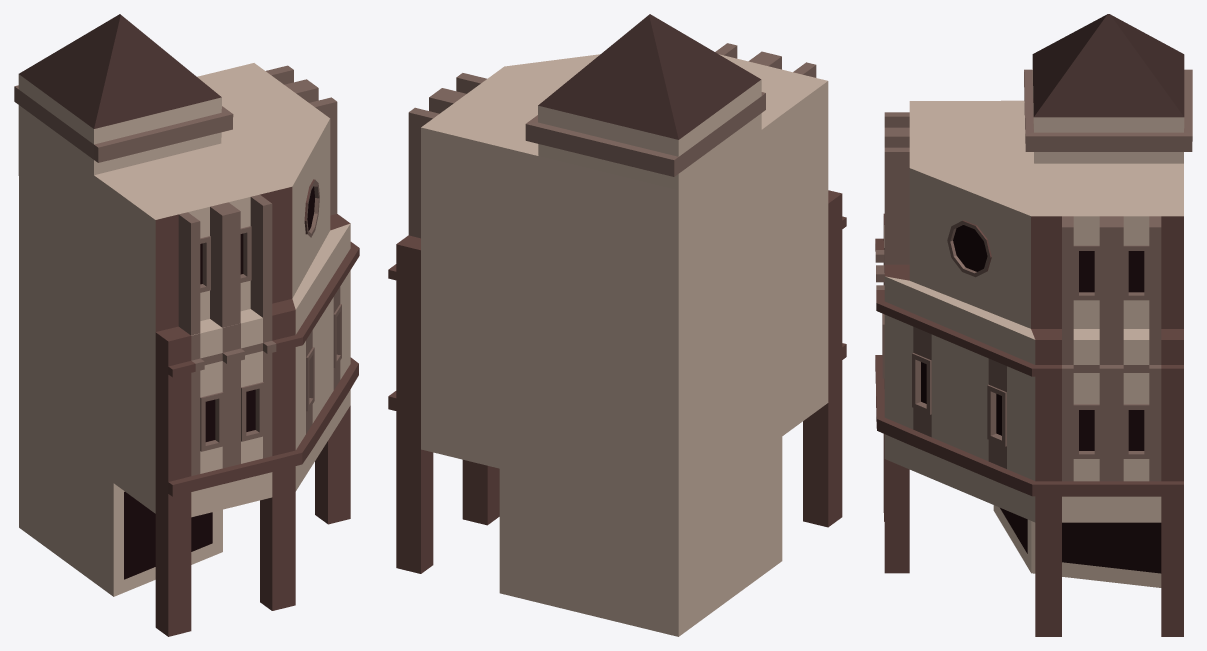
File: building_01.fbx
The picture shows the model from 3 angles, left to right: view 1: azimuth 30°, elevation 25°; view 2: azimuth 150°, elevation 25°; view 3: azimuth 270°, elevation 25°; orthographic projection. The views are drawn at different scales.
Visible parts, largest first — view 1: Cube.003; view 2: Cube.003; view 3: Cube.003.
Boxes of the visible parts, x1=… form: Cube.003: x1=14, y1=14, x2=359, y2=636; Cube.003: x1=388, y1=14, x2=846, y2=636; Cube.003: x1=875, y1=14, x2=1192, y2=636.
Size of the model in its own units: 365 by 691 by 377.
